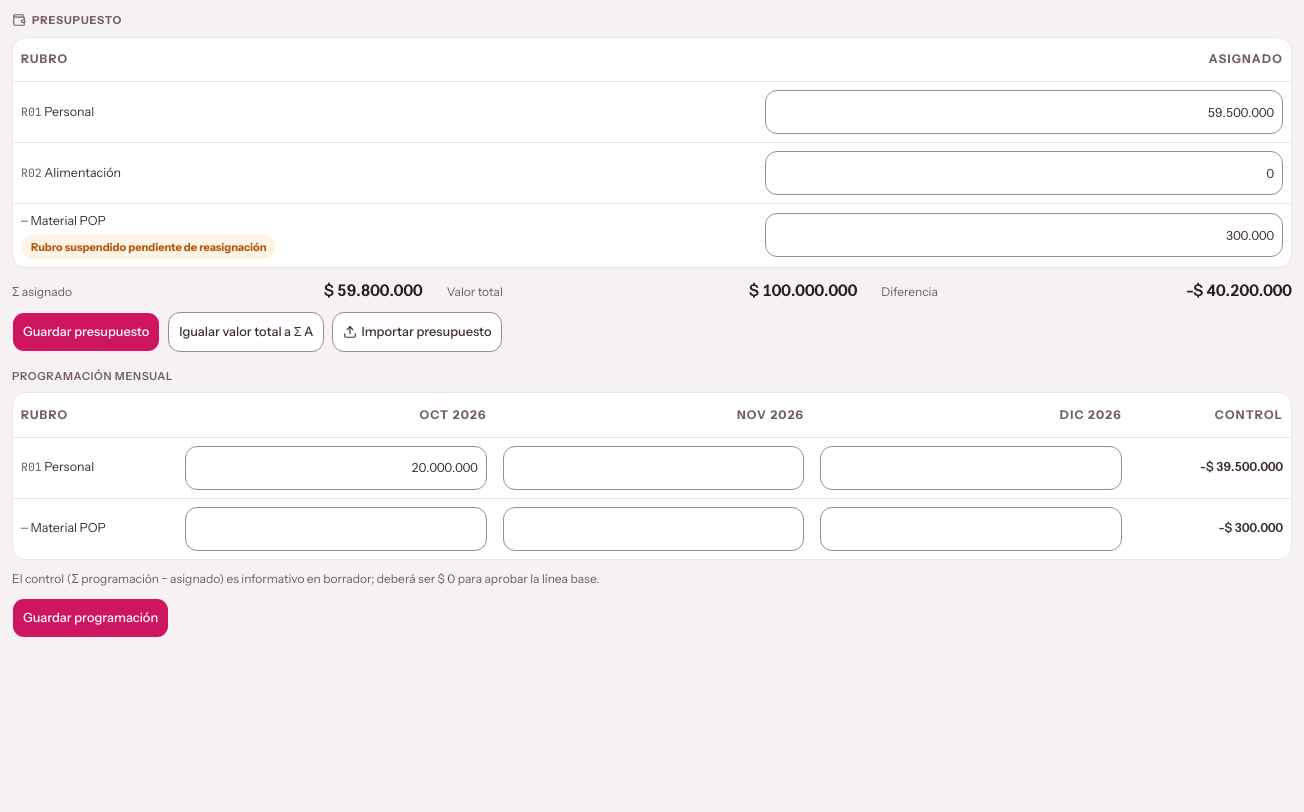
Test case: ProjectPresupuesto › never reinterprets the allocation 1.500,505: it is rejected and not sent
Replace the text in the field named "Asignado R02" with "1.500,505": (1024, 173) [765,151,1283,195]
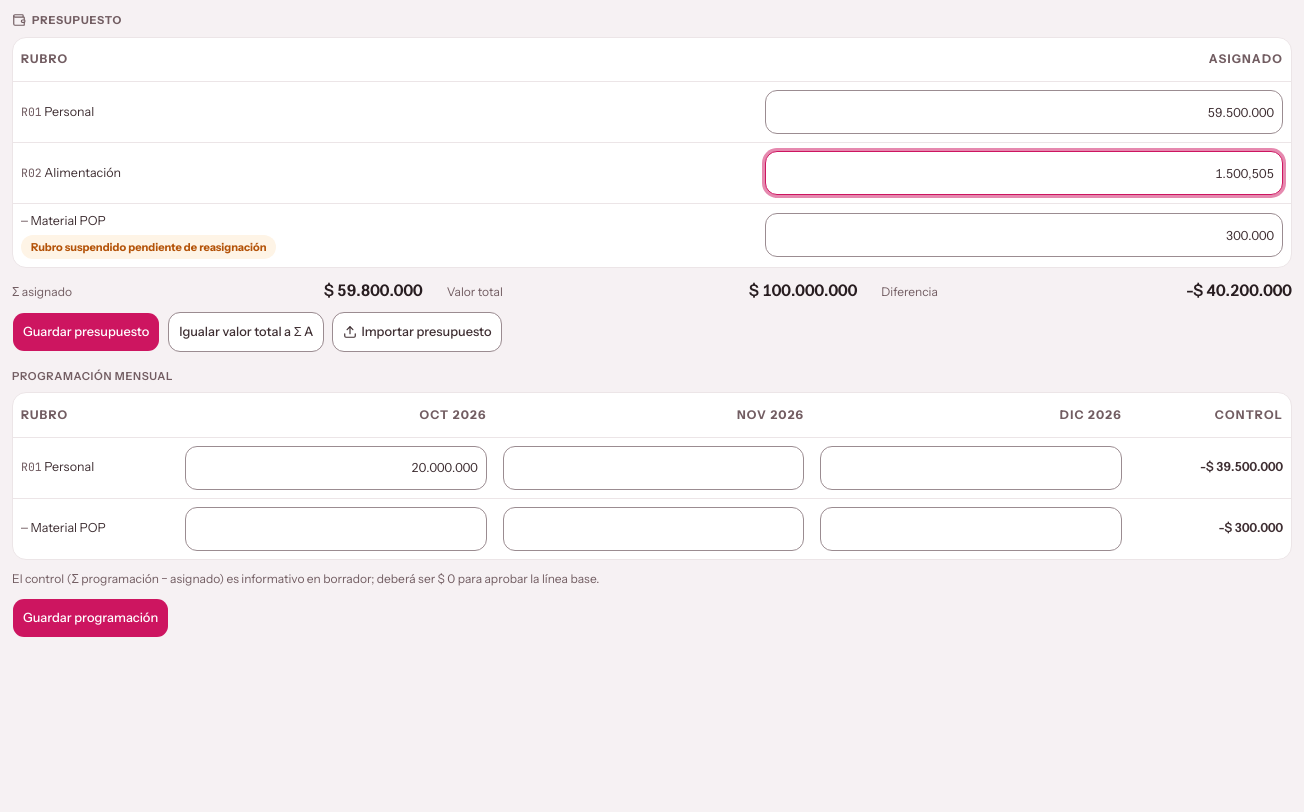
Press Tab
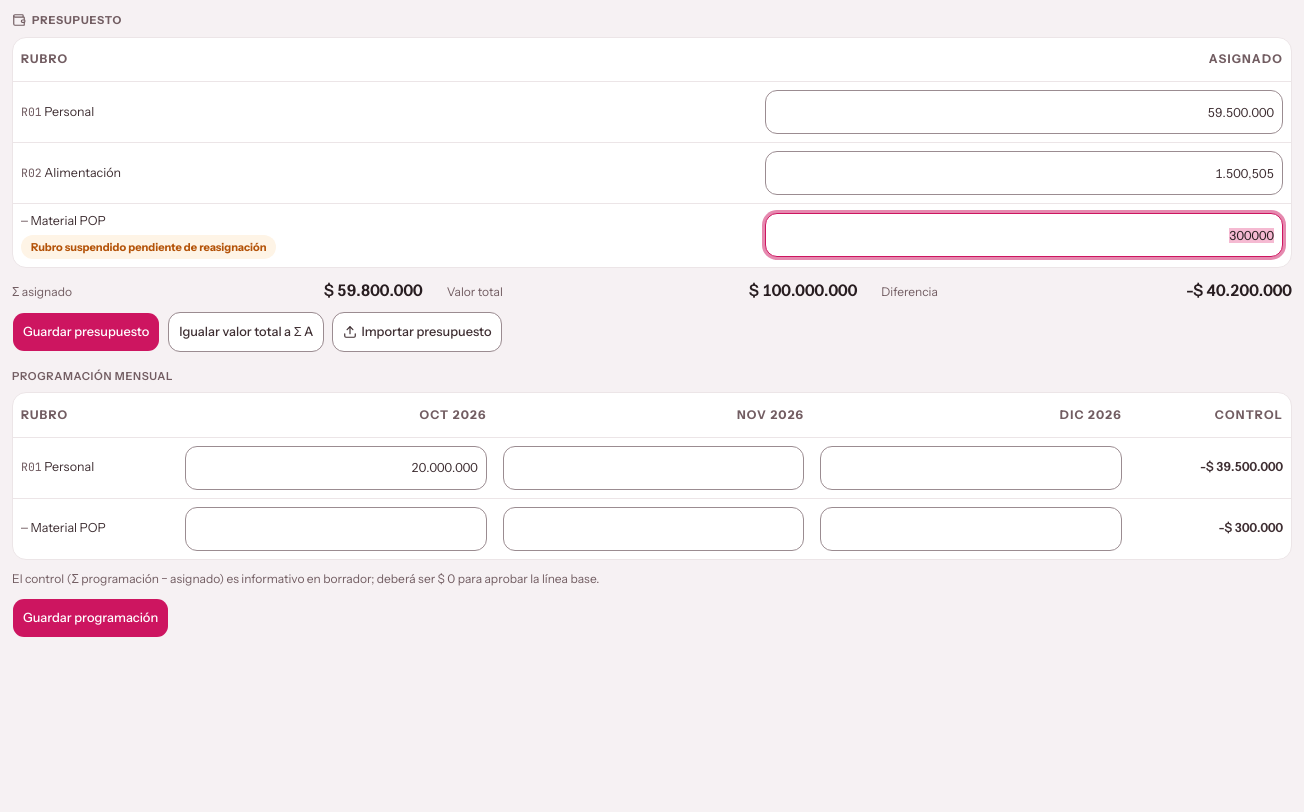
Click the button "Guardar presupuesto": (86, 332) [12,312,160,352]
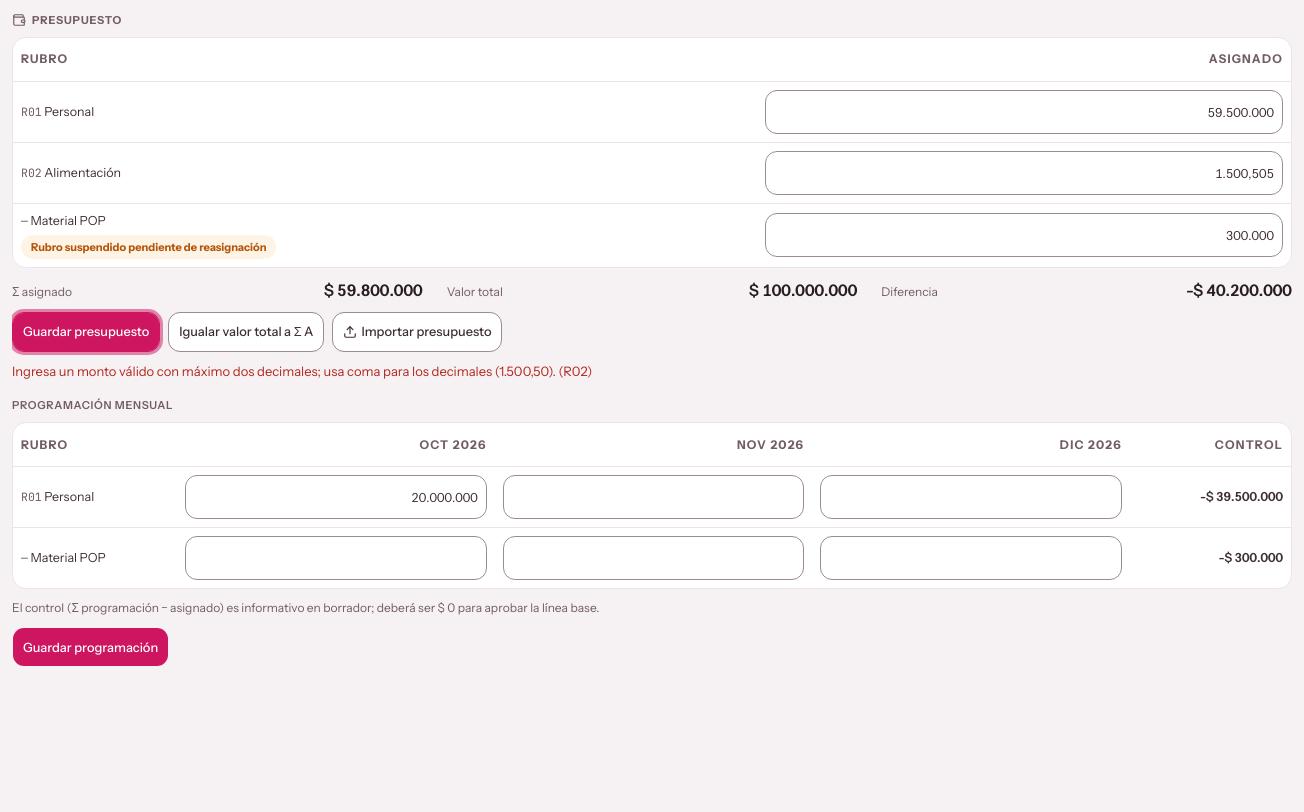
Result: the message shows "usa coma" at [12,363,592,379]
